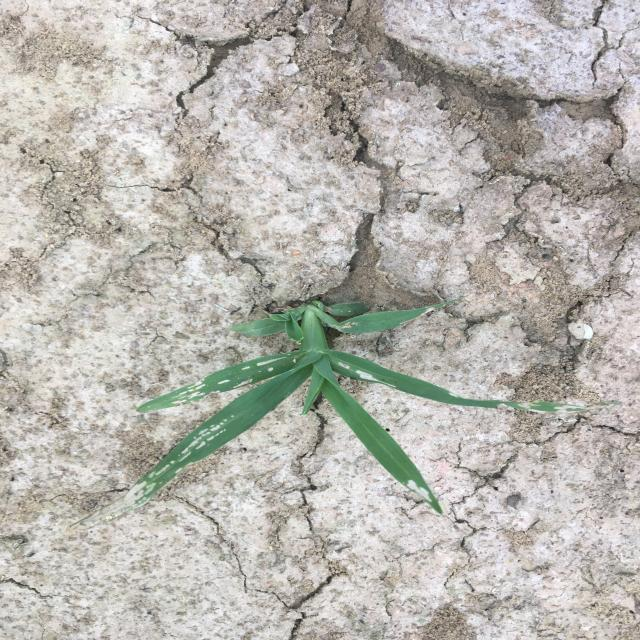Goosegrass: (66, 297, 630, 531)
